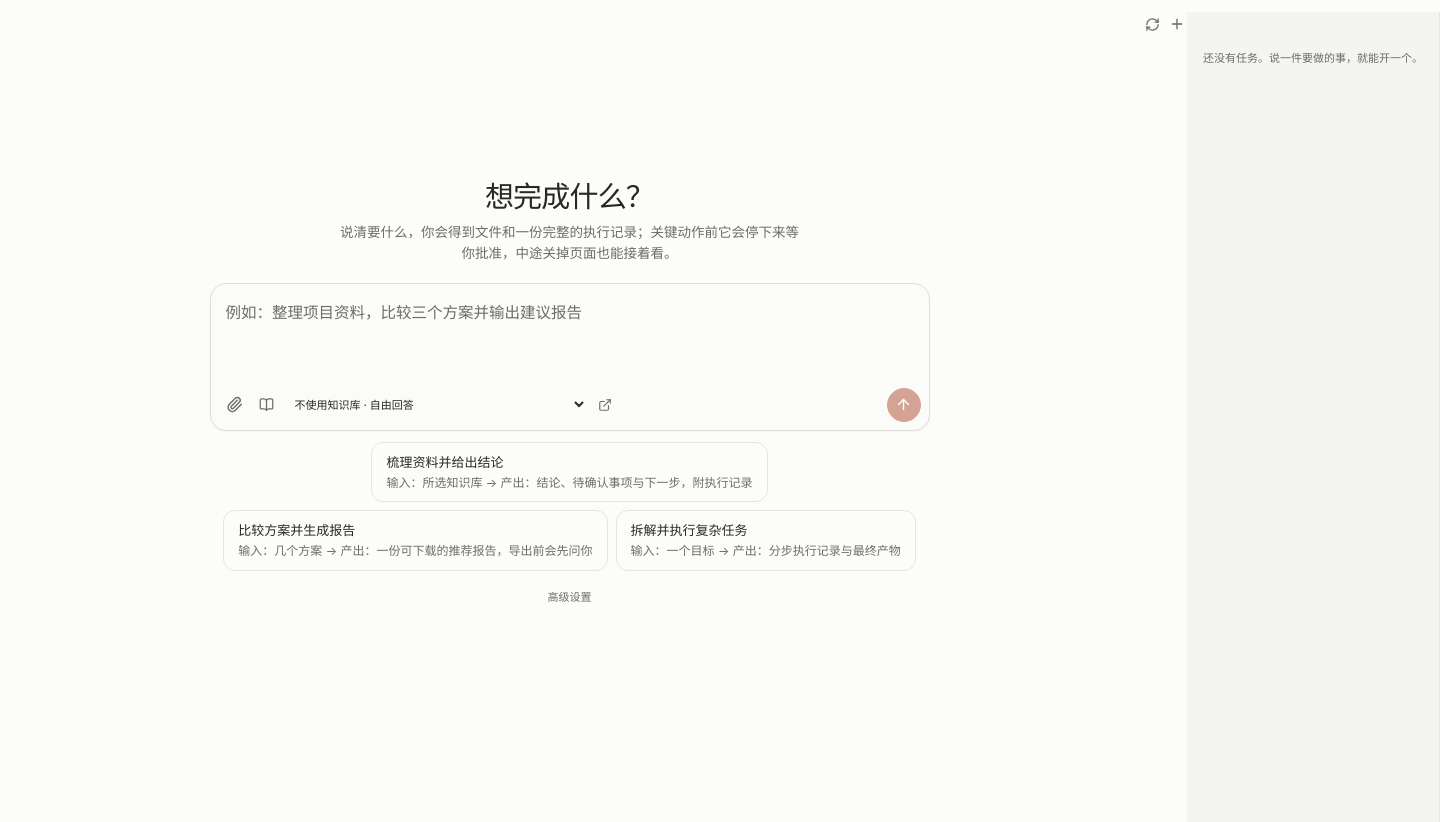
Test: WorkPage task submission › says it could not read the delegation setting rather than staying silent
The image size is (1440, 822).
Click the heading "高级设置". click: (570, 597)
box: [548, 590, 592, 604]
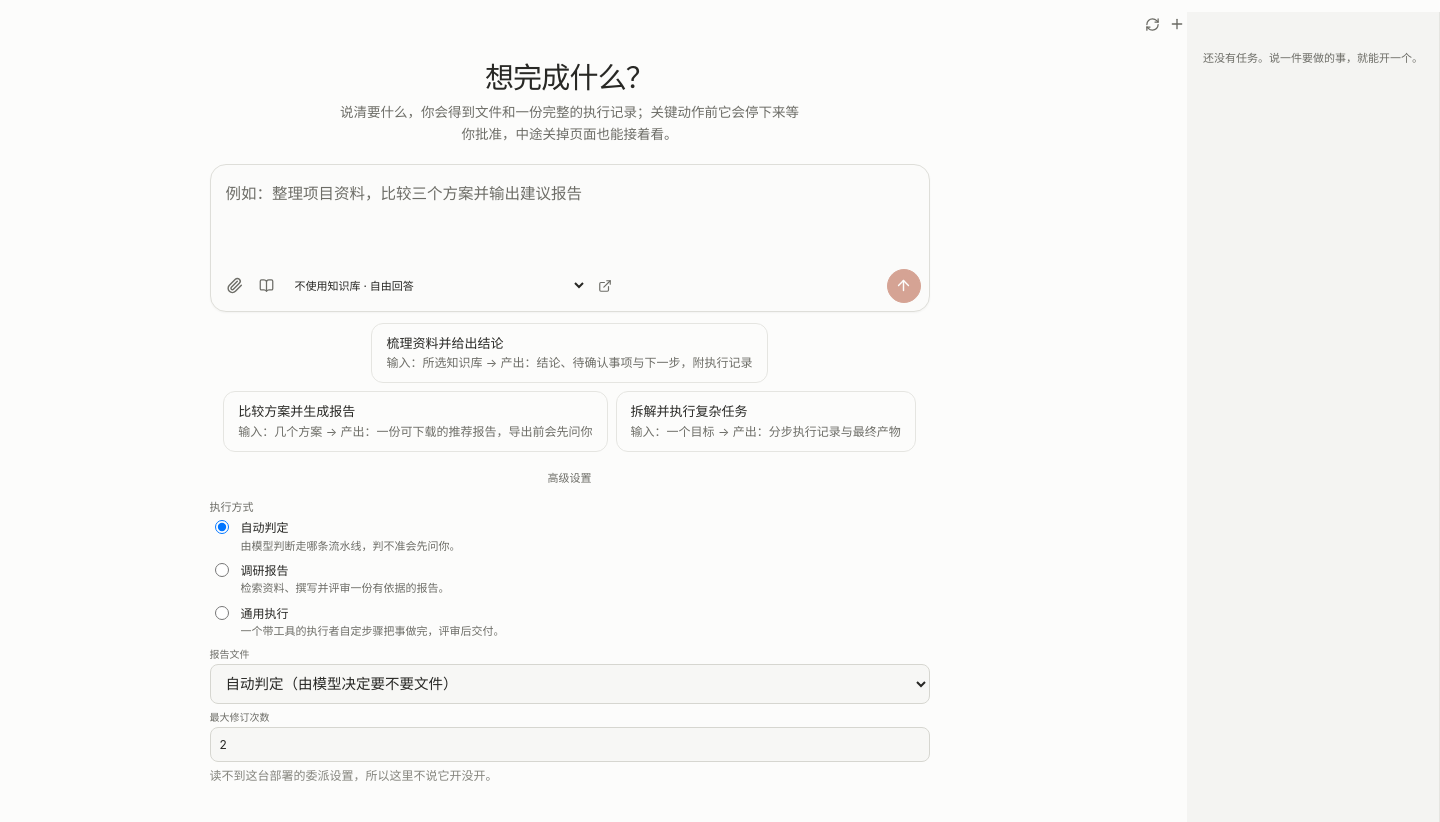
Expected: the text "读不到这台部署的委派设置，所以这里不说它开没开。" is shown, [210, 768, 498, 783]
